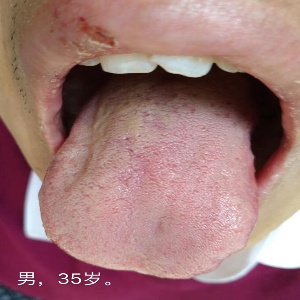st: (55, 110, 261, 281)
